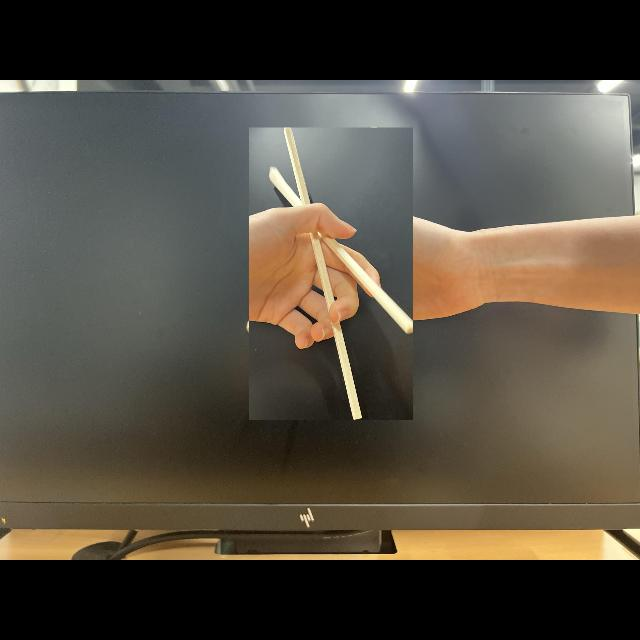stick: (249, 128, 413, 420)
